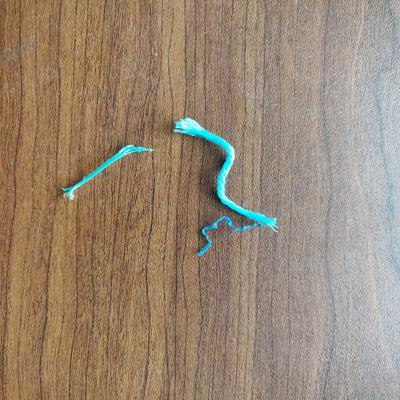thread: (169, 116, 282, 232), (59, 142, 160, 206), (194, 214, 268, 260)
